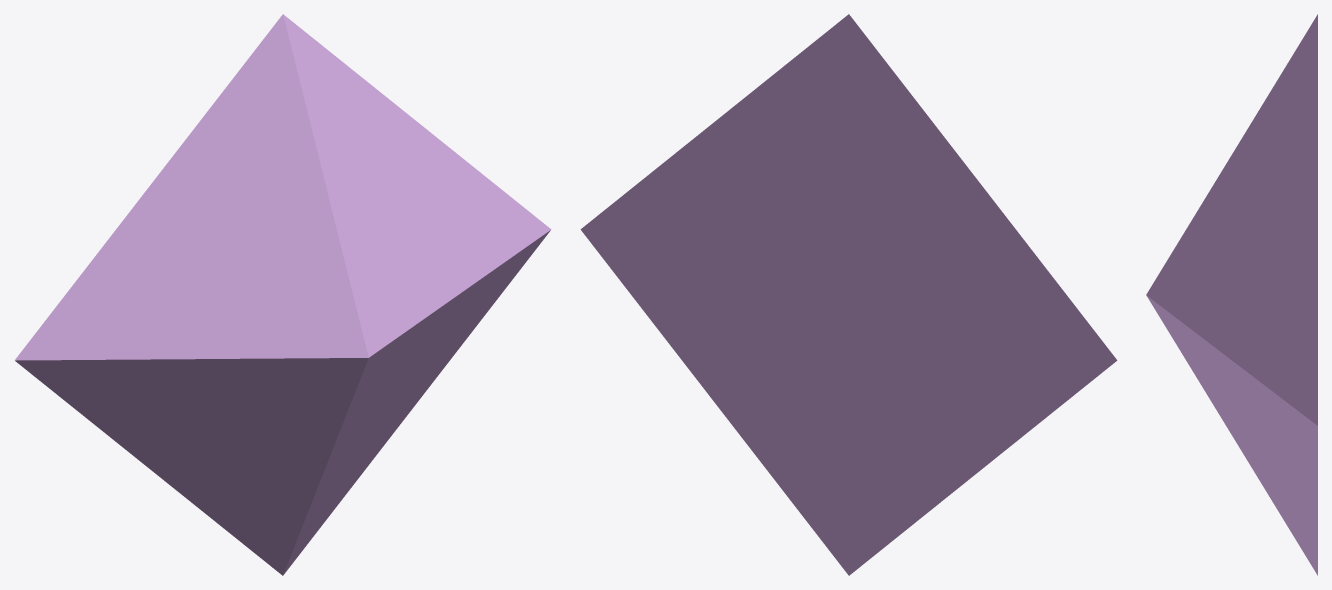
Rendered from wallpiece.fbx.
3 renders of one model, left to right at view 1: azimuth 30°, elevation 25°; view 2: azimuth 150°, elevation 25°; view 3: azimuth 270°, elevation 25°, orthographic.
Visible parts, largest first — view 1: wallpiece_low; view 2: wallpiece_low; view 3: wallpiece_low.
Part boxes in pixels (x1,y1,x2,y2): wallpiece_low: [14, 14, 551, 575]; wallpiece_low: [580, 14, 1117, 575]; wallpiece_low: [1146, 14, 1317, 575].
Bounding box in the file's own units: 1.41 × 1.41 × 0.3918.
